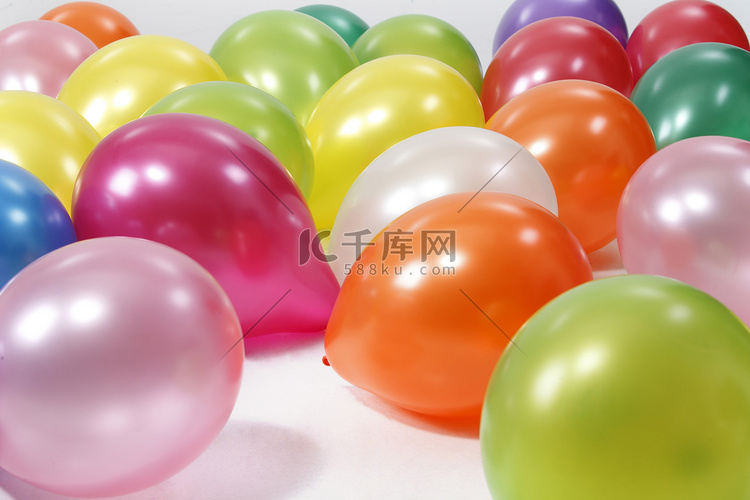balloon: (0, 237, 243, 495), (480, 276, 749, 499), (325, 193, 591, 414), (72, 114, 338, 334), (329, 127, 557, 360), (305, 55, 483, 239), (486, 80, 655, 252), (617, 136, 749, 326), (143, 81, 313, 193), (57, 35, 225, 136), (210, 10, 357, 124), (481, 17, 632, 120), (631, 43, 749, 149), (352, 14, 482, 96), (626, 0, 749, 84), (0, 160, 75, 289), (0, 20, 96, 97), (493, 0, 627, 54), (40, 1, 138, 47), (295, 4, 368, 46)
